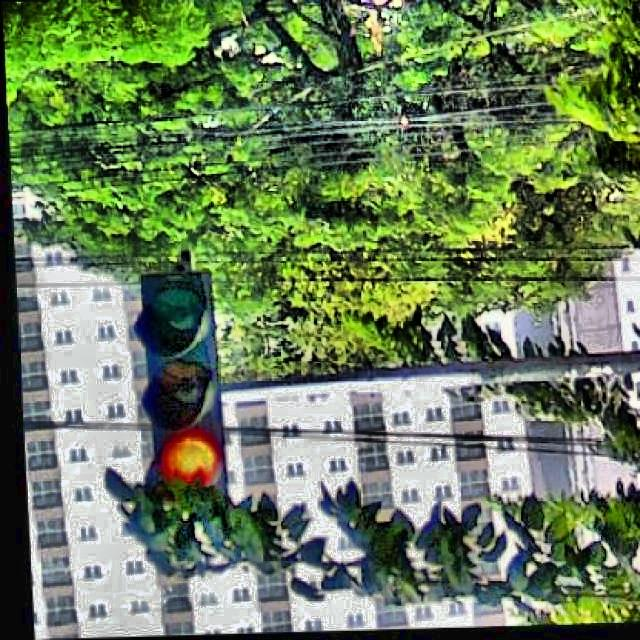red: (142, 268, 235, 512)
